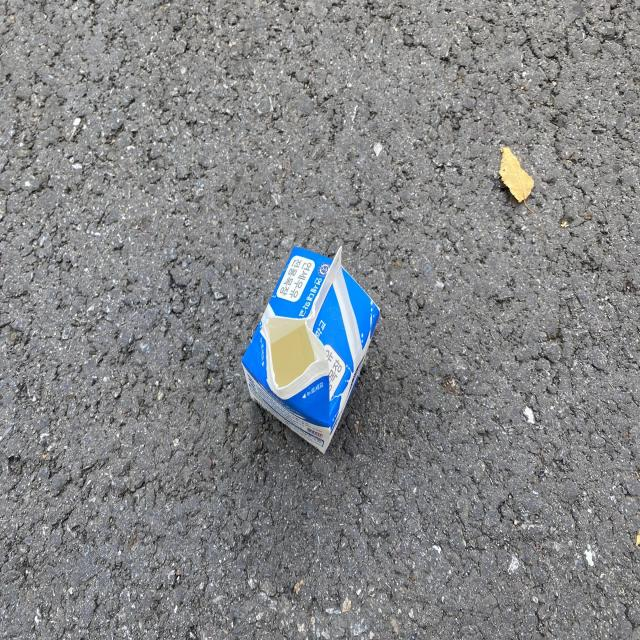paperpack: (242, 246, 380, 453)
